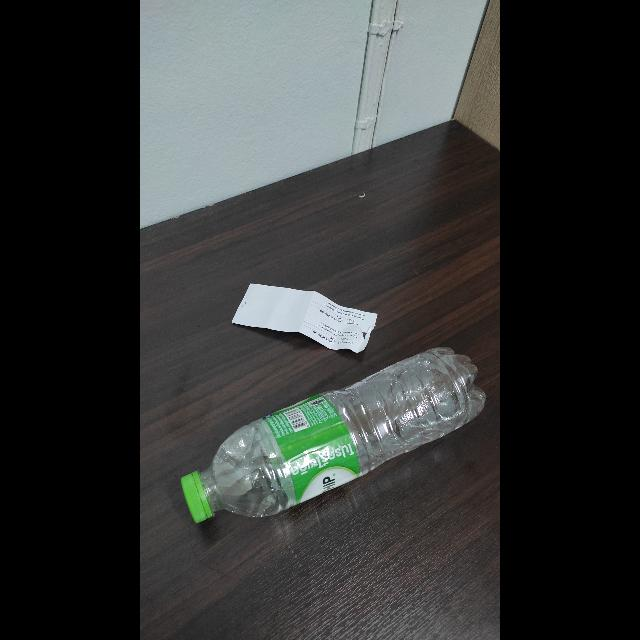plastic_bottle: (176, 343, 488, 539)
plastic_bottle_cap: (183, 468, 213, 524)
scrap_paper: (233, 274, 379, 362)
